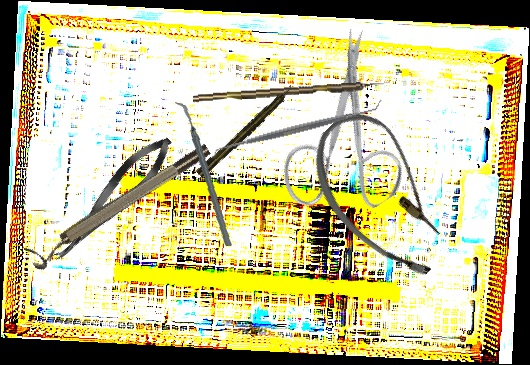Cannula: (289, 97, 479, 293)
Chopper: (160, 100, 247, 247)
Fixation Ring: (23, 140, 218, 273)
Handpiece: (195, 82, 297, 180)
Hook Surgical: (192, 80, 391, 103)
Iris Scissors: (231, 22, 450, 244)
Micro Scissor: (44, 127, 181, 272)
Spatula Surgical: (209, 97, 386, 160)
